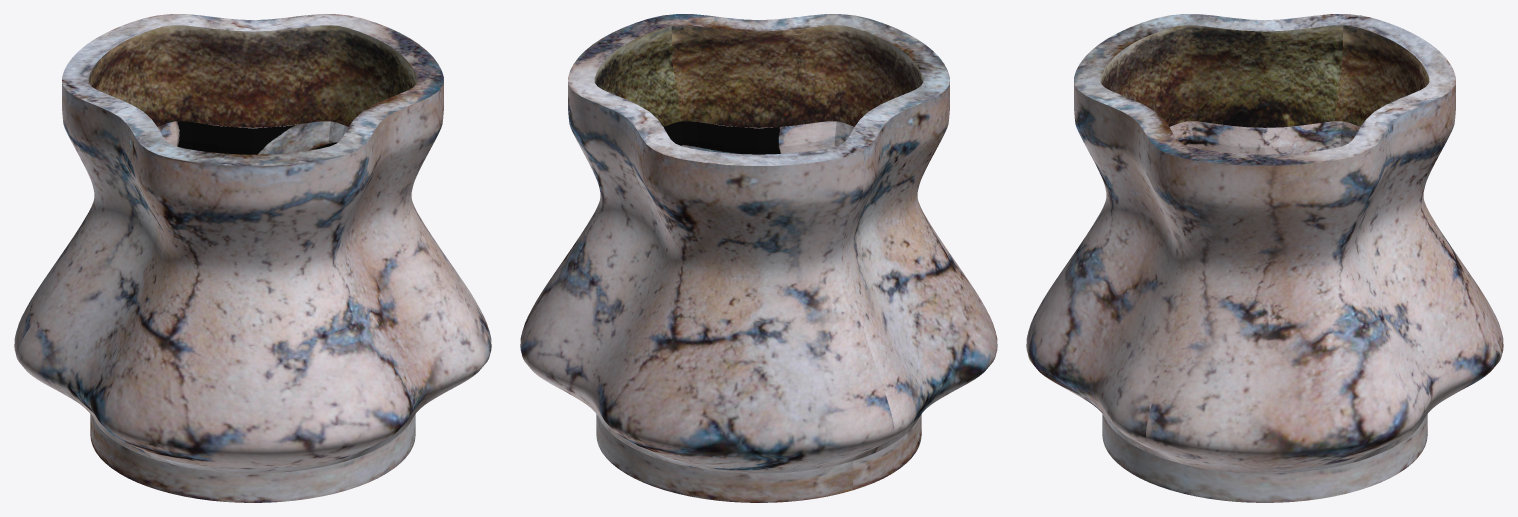
Rendered from Jarron2FBX.fbx.
The picture shows the model from 3 angles, left to right: view 1: azimuth 30°, elevation 25°; view 2: azimuth 150°, elevation 25°; view 3: azimuth 270°, elevation 25°; orthographic projection.
Visible parts, largest first — view 1: Jarron2:Object002, Jarron2:Line002; view 2: Jarron2:Object002, Jarron2:Line002; view 3: Jarron2:Object002, Jarron2:Line002.
Part boxes in pixels (x1,y1,x2,y2): Jarron2:Object002: [14, 14, 491, 502]; Jarron2:Line002: [157, 121, 348, 154]; Jarron2:Object002: [520, 14, 997, 502]; Jarron2:Line002: [663, 121, 854, 154]; Jarron2:Object002: [1026, 14, 1503, 502]; Jarron2:Line002: [1169, 121, 1360, 154].
Bounding box in the file's own units: 2.62 × 2.21 × 2.73.
1 material, 1 textured.
